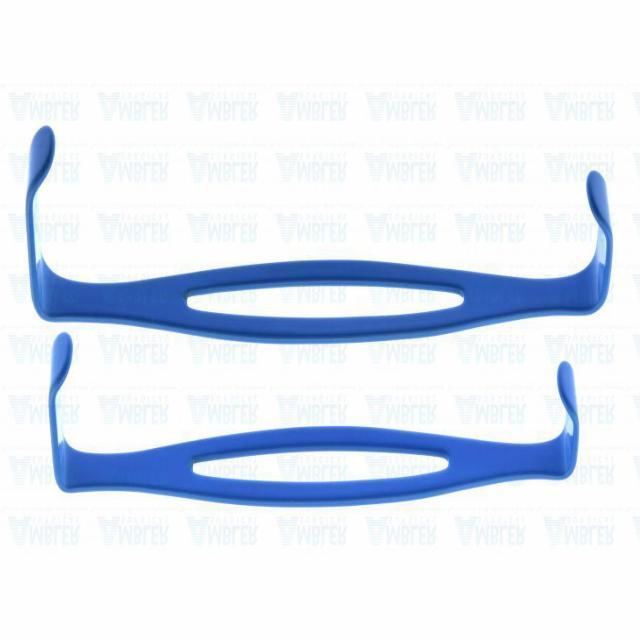Army_navy: (22, 117, 612, 350), (44, 328, 584, 514)
